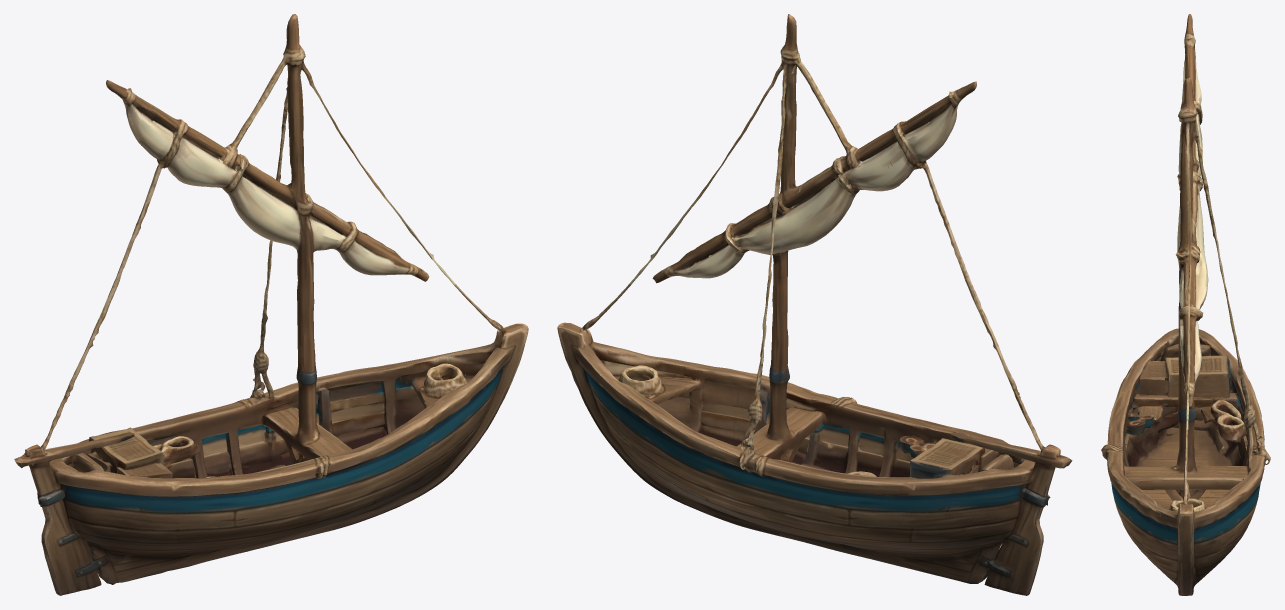
File: tidewake_sailskiff.glb
3 renders of one model, left to right at view 1: azimuth 30°, elevation 25°; view 2: azimuth 150°, elevation 25°; view 3: azimuth 270°, elevation 25°, orthographic. The views are drawn at different scales.
Parts seen in each view (by area): view 1: Mesh_0; view 2: Mesh_0; view 3: Mesh_0.
Part boxes in pixels (<box>): Mesh_0: <box>14,14,528,595</box>; Mesh_0: <box>557,14,1072,595</box>; Mesh_0: <box>1101,14,1270,595</box>.
Bounding box in the file's own units: 1.9 × 1.85 × 0.5999.
1 material, 1 textured.
